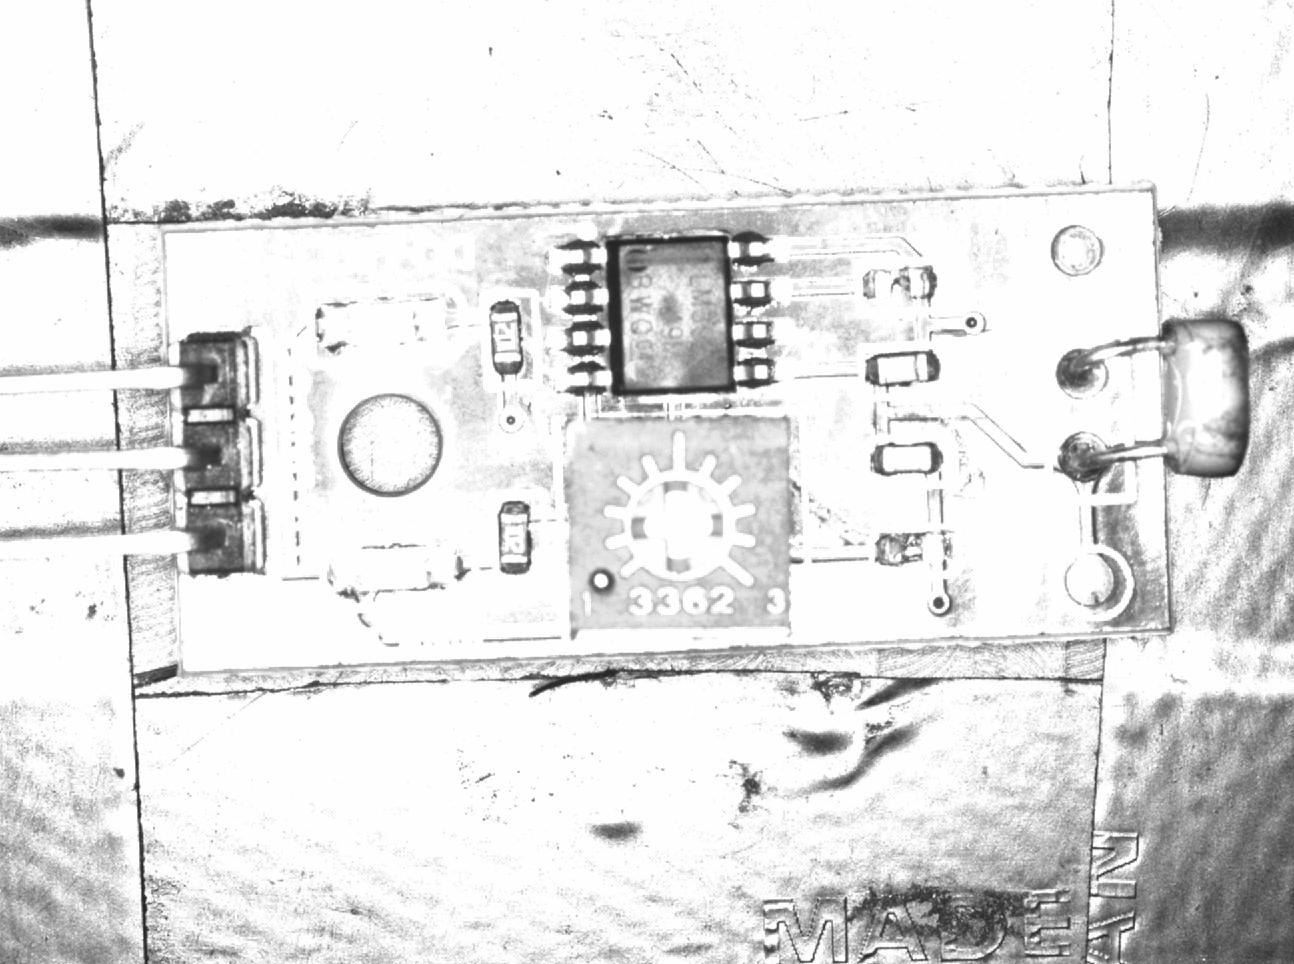miss: (868, 524, 959, 571), (856, 259, 945, 308)
ok: (483, 290, 541, 388), (490, 490, 539, 584), (859, 343, 946, 394), (869, 436, 956, 484)
